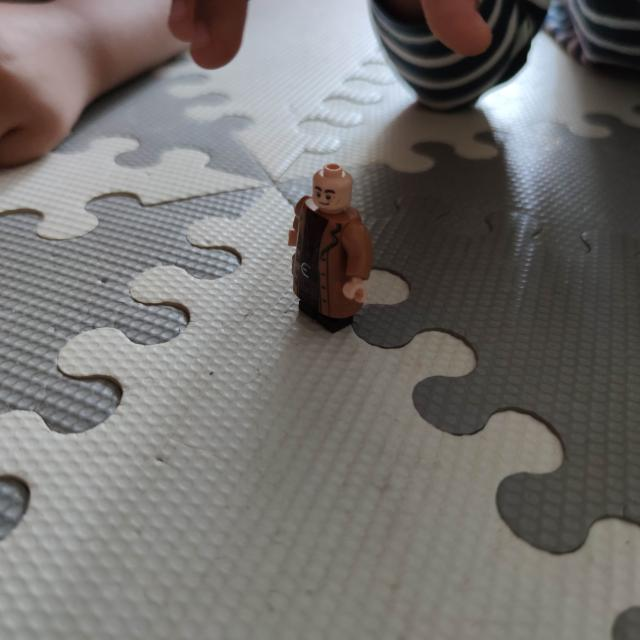lego: (285, 158, 374, 336)
